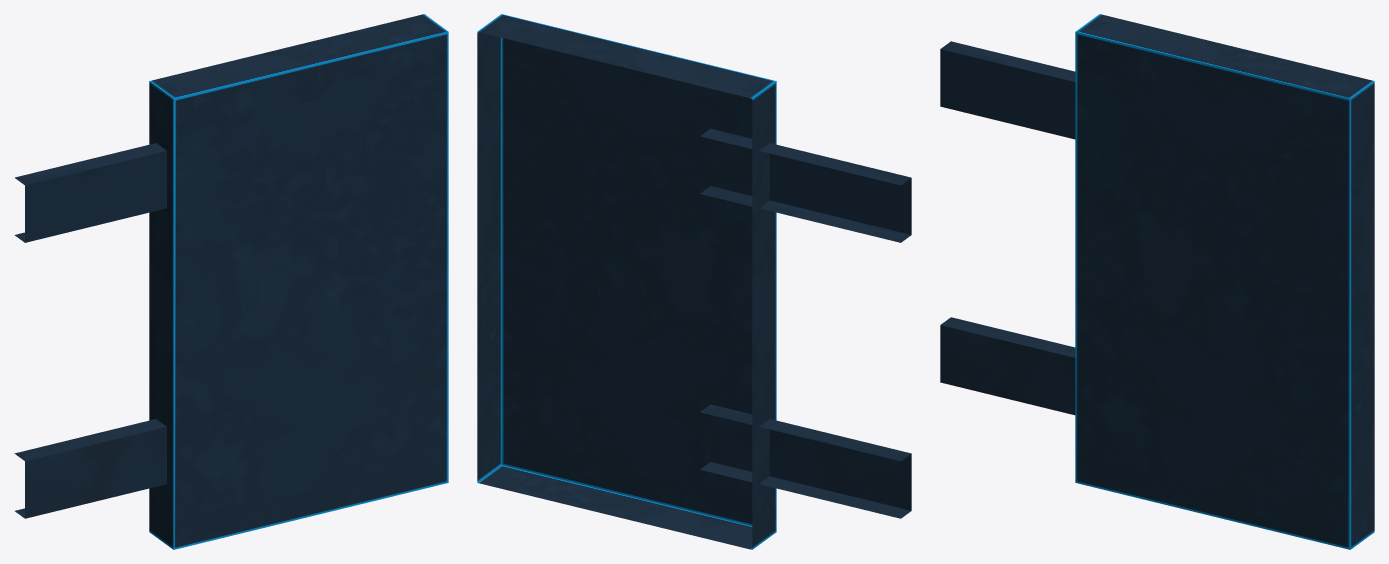
File: L Side Billboard 2 V2.5.fbx
3 renders of one model, left to right at view 1: azimuth 30°, elevation 25°; view 2: azimuth 150°, elevation 25°; view 3: azimuth 330°, elevation 25°, orthographic.
Visible parts, largest first — view 1: pCube9; view 2: pCube9; view 3: pCube9.
Part boxes in pixels (box(x1,y1,x2,y2)): pCube9: box(14, 14, 448, 549); pCube9: box(477, 14, 911, 549); pCube9: box(940, 14, 1374, 549).
Size of the model in its own units: 16.6 by 17.16 by 1.67.
